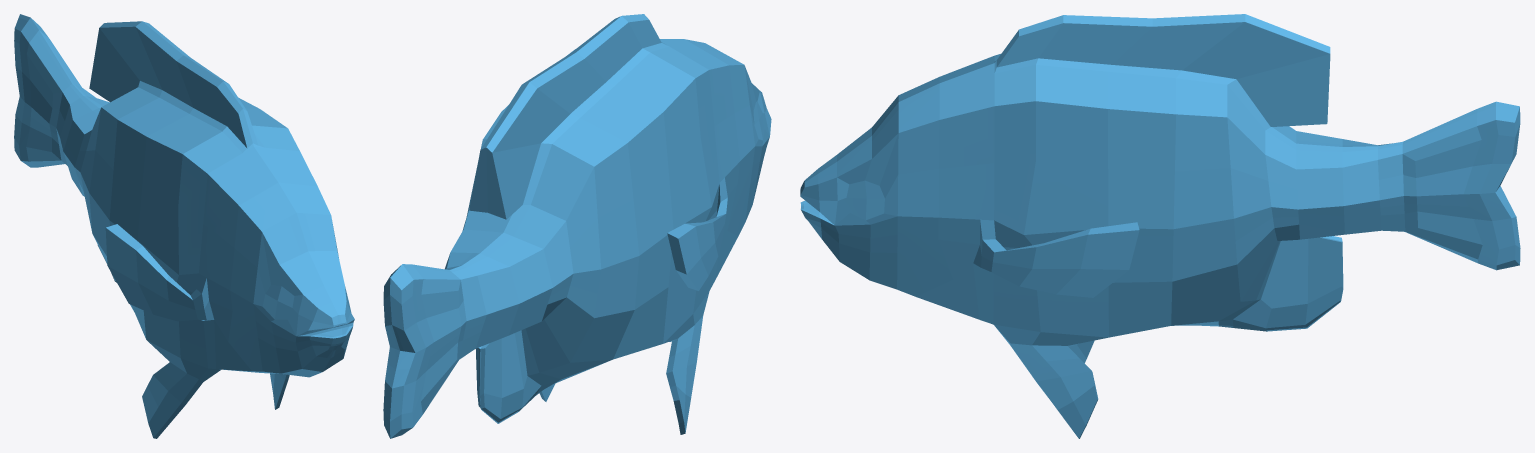
Rendered from NewBlueGrill.fbx.
3 renders of one model, left to right at view 1: azimuth 30°, elevation 25°; view 2: azimuth 150°, elevation 25°; view 3: azimuth 270°, elevation 25°, orthographic. The views are drawn at different scales.
Parts seen in each view (by area): view 1: Bluegill; view 2: Bluegill; view 3: Bluegill.
Part boxes in pixels (box(x1,y1,x2,y2)): Bluegill: box(14, 14, 354, 438); Bluegill: box(383, 14, 771, 438); Bluegill: box(800, 14, 1520, 438).
Bounding box in the file's own units: 2228 × 4302 × 7151.
